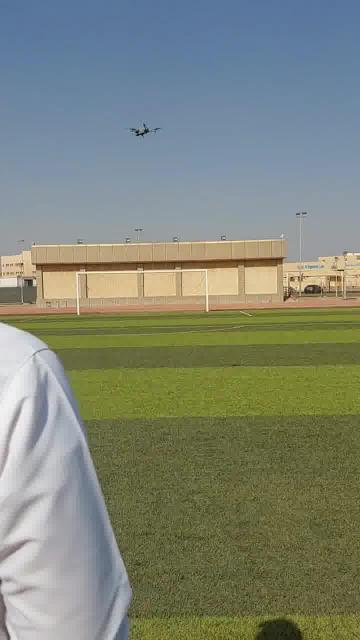drone: (122, 116, 162, 140)
